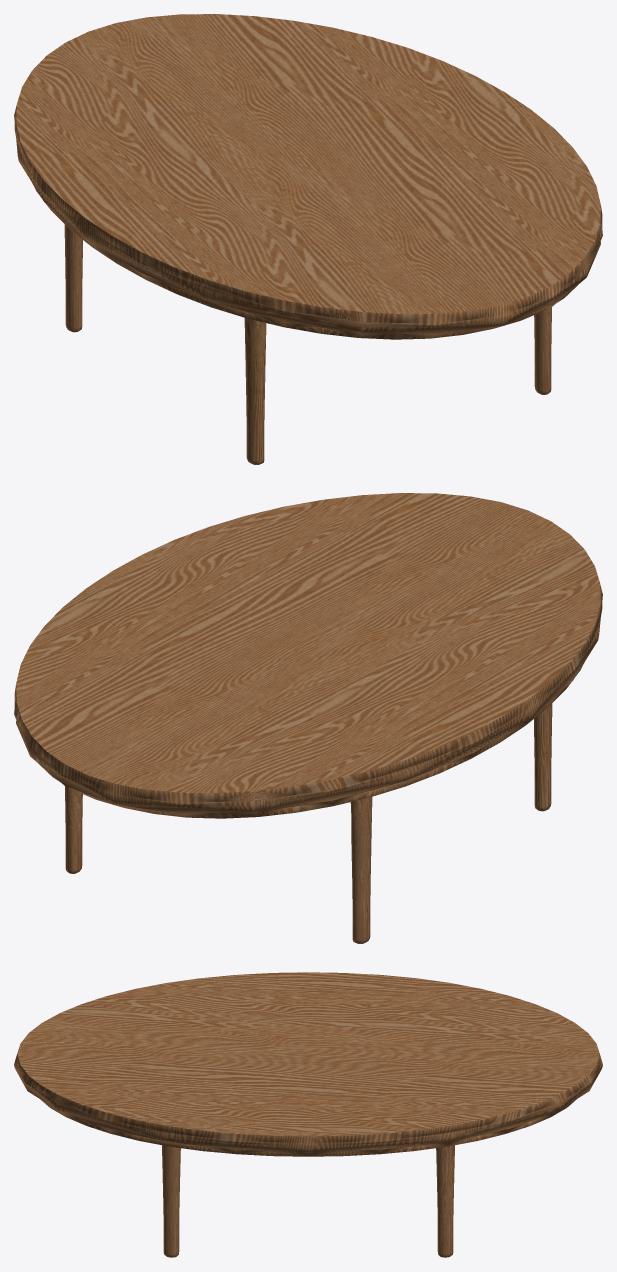
The model's file is coffee_table.glb.
The picture shows the model from 3 angles, top to bottom: view 1: azimuth 30°, elevation 25°; view 2: azimuth 150°, elevation 25°; view 3: azimuth 270°, elevation 25°; orthographic projection. The views are drawn at different scales.
Visible parts, largest first — view 1: CoffeeTable; view 2: CoffeeTable; view 3: CoffeeTable.
Part boxes in pixels (x1,y1,x2,y2): CoffeeTable: (14, 14, 602, 464); CoffeeTable: (14, 493, 602, 943); CoffeeTable: (14, 972, 602, 1257).
Bounding box in the file's own units: 0.8587 × 0.3601 × 1.29.
Materials: 1 (1 with a texture image).
